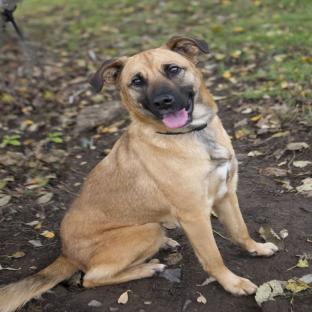Animal: (0, 36, 278, 312)
